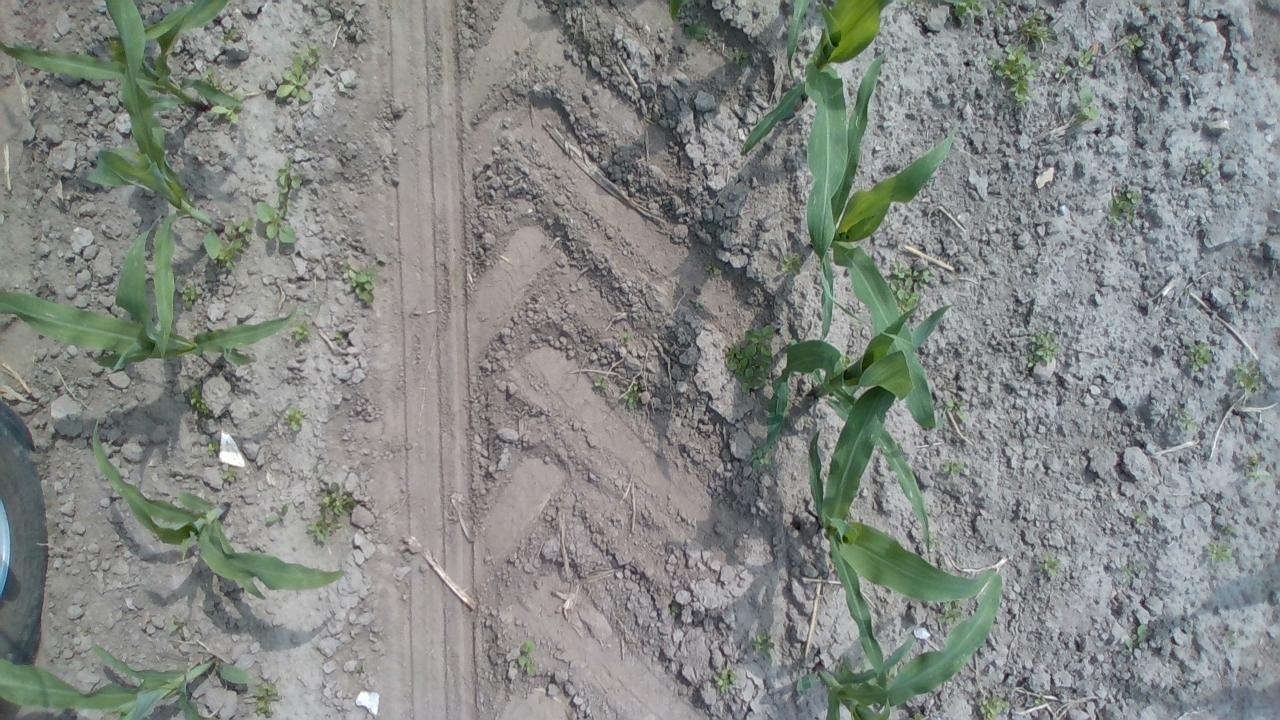Maize: (809, 305, 996, 687), (809, 52, 960, 429), (84, 1, 228, 362), (741, 0, 892, 341), (764, 302, 955, 554), (91, 415, 351, 600), (797, 573, 1005, 720), (1, 1, 243, 115), (0, 288, 298, 372), (0, 644, 255, 720), (788, 0, 811, 87), (668, 0, 688, 21)
Weeds: (722, 320, 774, 398), (987, 44, 1041, 112), (890, 259, 931, 317), (272, 55, 316, 107), (256, 199, 298, 246), (1020, 8, 1060, 48), (342, 261, 378, 304), (1026, 330, 1062, 370), (1108, 187, 1144, 225), (320, 481, 358, 515), (1234, 358, 1265, 396), (272, 157, 302, 195), (514, 634, 538, 678), (253, 680, 280, 719), (306, 517, 344, 544), (216, 239, 246, 270), (1186, 340, 1212, 372), (176, 276, 198, 313), (224, 215, 254, 242), (187, 386, 212, 417), (980, 695, 1011, 720), (1078, 86, 1100, 121), (1204, 540, 1232, 567), (283, 405, 309, 433), (753, 626, 776, 656), (952, 0, 986, 20), (1173, 407, 1199, 433), (1122, 559, 1148, 585), (936, 603, 963, 628), (713, 669, 738, 696), (1124, 624, 1148, 652), (1242, 448, 1262, 480), (943, 395, 967, 420), (165, 614, 188, 640), (268, 504, 294, 527), (1078, 44, 1098, 73), (210, 106, 240, 125), (684, 20, 708, 42), (302, 42, 326, 64), (750, 443, 771, 468), (1196, 152, 1217, 176), (1038, 554, 1060, 576), (779, 253, 802, 274), (939, 460, 966, 476), (1125, 32, 1145, 52), (622, 385, 640, 407), (1124, 509, 1150, 524), (290, 320, 308, 340), (727, 45, 747, 62), (218, 26, 238, 43), (221, 467, 238, 484), (595, 376, 610, 394), (837, 656, 852, 674), (1225, 628, 1238, 648), (706, 263, 722, 278), (618, 331, 632, 346), (208, 441, 220, 458), (1232, 288, 1256, 296), (995, 2, 1007, 17), (353, 662, 367, 674), (929, 532, 938, 550), (200, 67, 212, 80), (335, 330, 347, 340), (1058, 62, 1068, 74), (1036, 694, 1046, 706), (1224, 522, 1234, 534), (910, 714, 926, 720), (1145, 0, 1154, 10), (233, 92, 246, 98), (670, 606, 678, 614)
